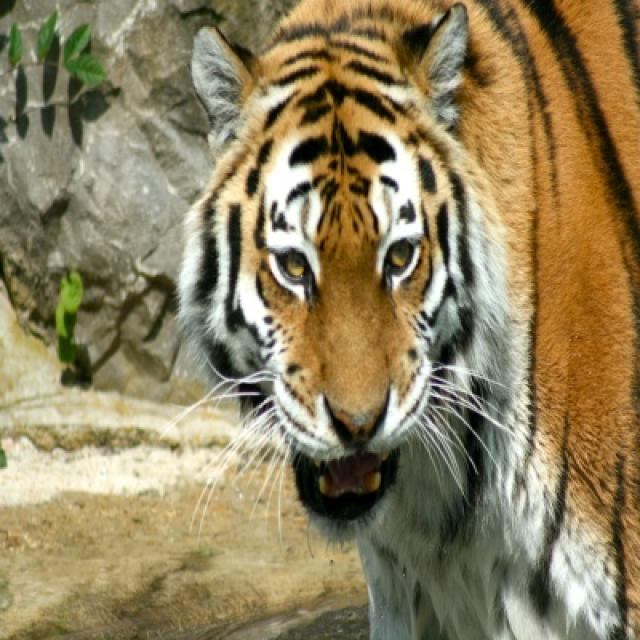Tiger: (187, 13, 514, 555)
